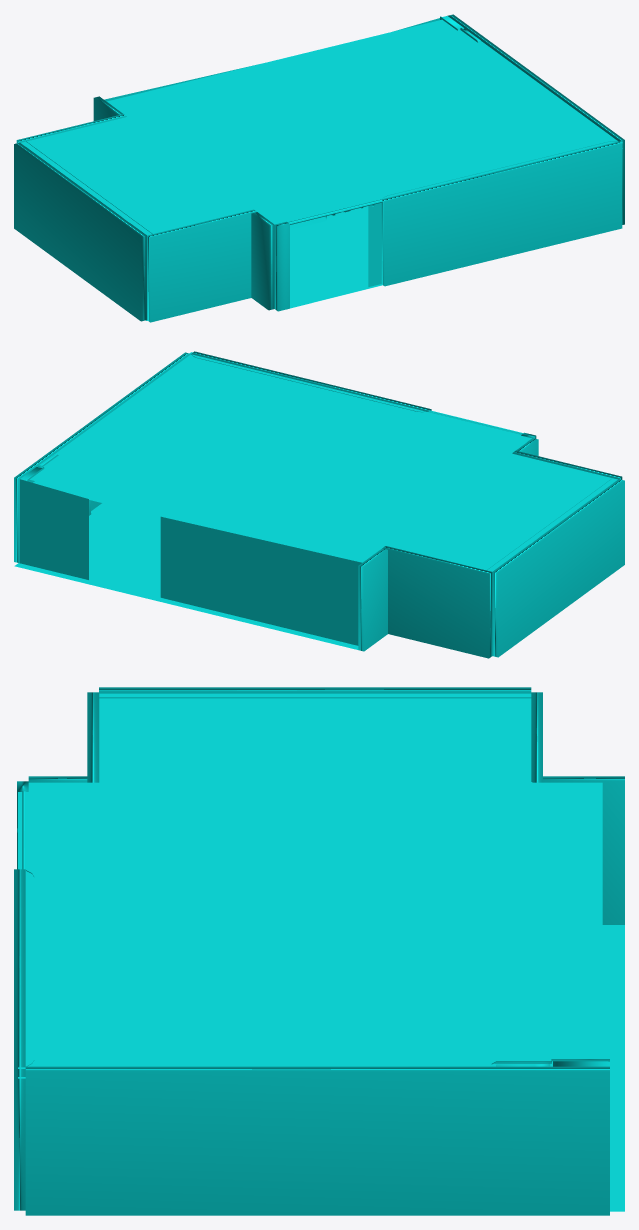
Rendered from LOBBY.fbx.
The picture shows the model from 3 angles, top to bottom: view 1: azimuth 30°, elevation 25°; view 2: azimuth 150°, elevation 25°; view 3: azimuth 270°, elevation 25°; orthographic projection. The views are drawn at different scales.
Visible parts, largest first — view 1: CONSULTORIO; view 2: CONSULTORIO; view 3: CONSULTORIO.
Boxes of the visible parts, x1,y1,x2,y2 form: CONSULTORIO: [14, 14, 624, 322]; CONSULTORIO: [14, 351, 624, 658]; CONSULTORIO: [14, 687, 624, 1215].
Size of the model in its own units: 38.89 by 7.15 by 26.14.
